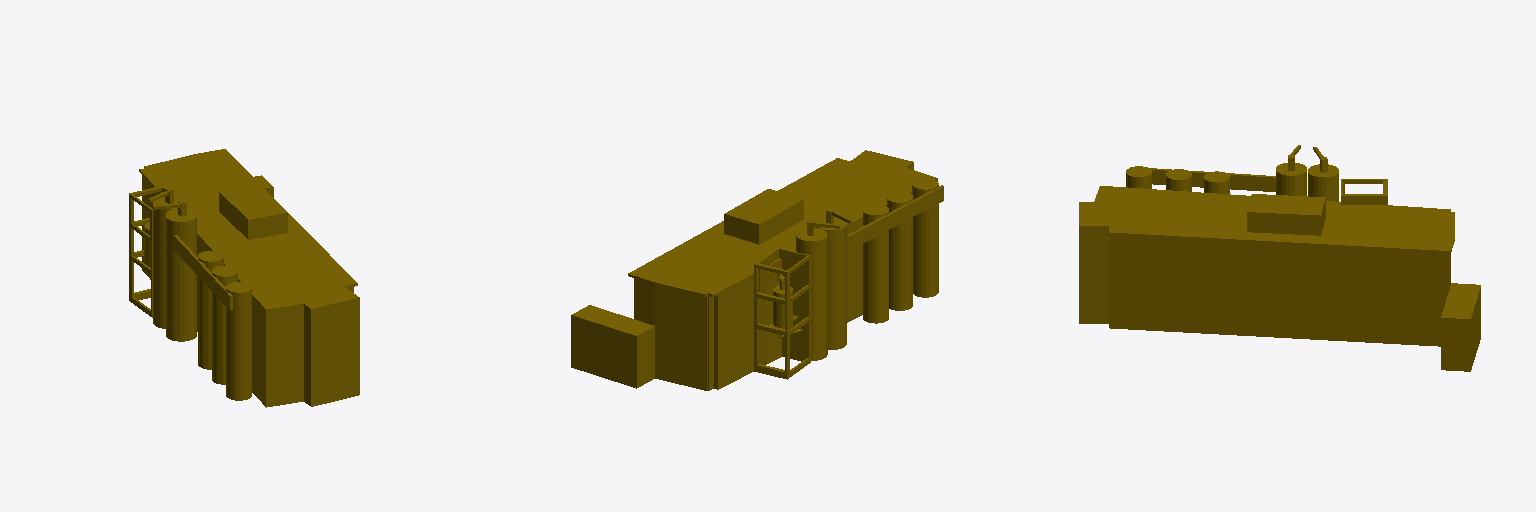
3 views of the same model, side by side, from view 1: azimuth 30°, elevation 25°; view 2: azimuth 150°, elevation 25°; view 3: azimuth 270°, elevation 25° (orthographic).
Parts seen in each view (by area): view 1: skp88EE_001; view 2: skp88EE_001; view 3: skp88EE_001.
Part boxes in pixels (left/top/right/bottom): skp88EE_001: left=129, top=149, right=359, bottom=407; skp88EE_001: left=571, top=150, right=943, bottom=390; skp88EE_001: left=1079, top=145, right=1480, bottom=371.
Bounding box in the file's own units: 2852 × 1787 × 4911.